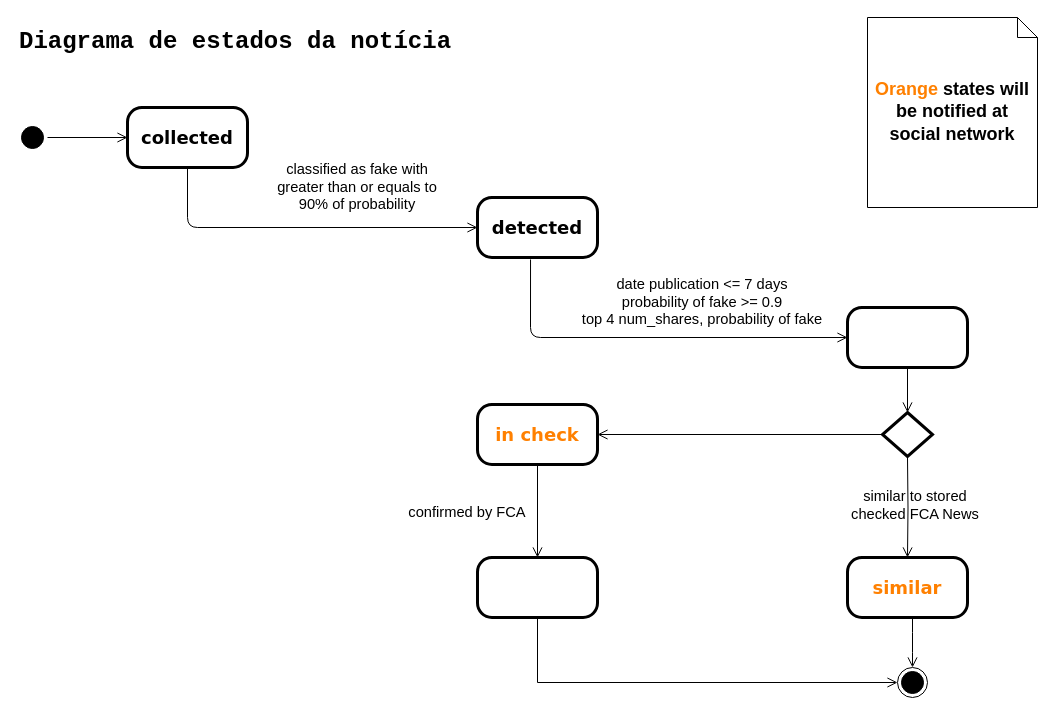
The diagram is 1055 pixels wide and 715 high, and some of its shapes have lost their labels. The shapes that lost their labels are listed below. From the top down, each one's centre as x and y in pixels, then its label:
At [907,337]: "selected".
At [537,587]: "checked".
